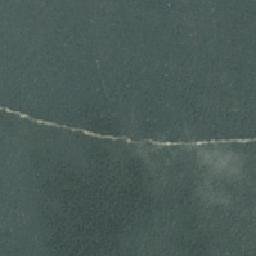debris: (83, 127, 182, 149), (183, 138, 256, 150), (50, 120, 82, 134), (20, 111, 49, 125), (1, 102, 20, 117)
